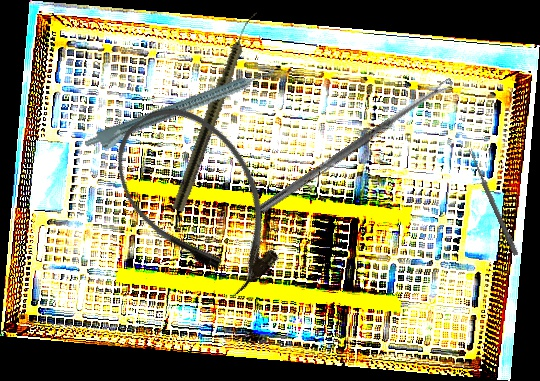Cannula: (92, 84, 307, 315)
Handpiece: (82, 64, 281, 159), (170, 6, 260, 214)
Surgical Spoon: (255, 77, 455, 217), (466, 147, 520, 257)
